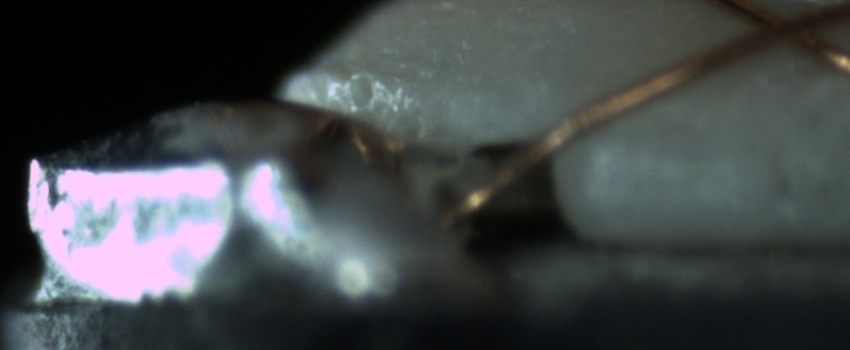CL: (736, 2, 828, 57)
